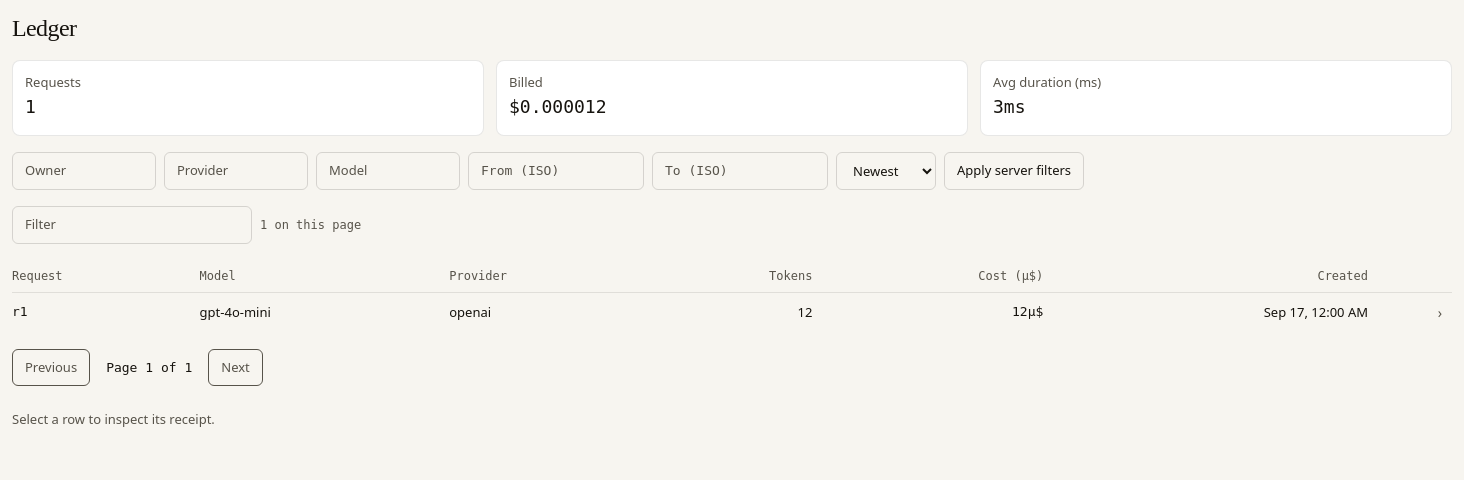
Test: LedgerPage › rejects oversize windows before fetching
This screenshot has width=1464, height=480.
Expected: the table is shown, [12, 260, 1452, 332]
Type "2026-01-01" into the field named "server filter window start" at (556, 171), box [468, 152, 644, 190]
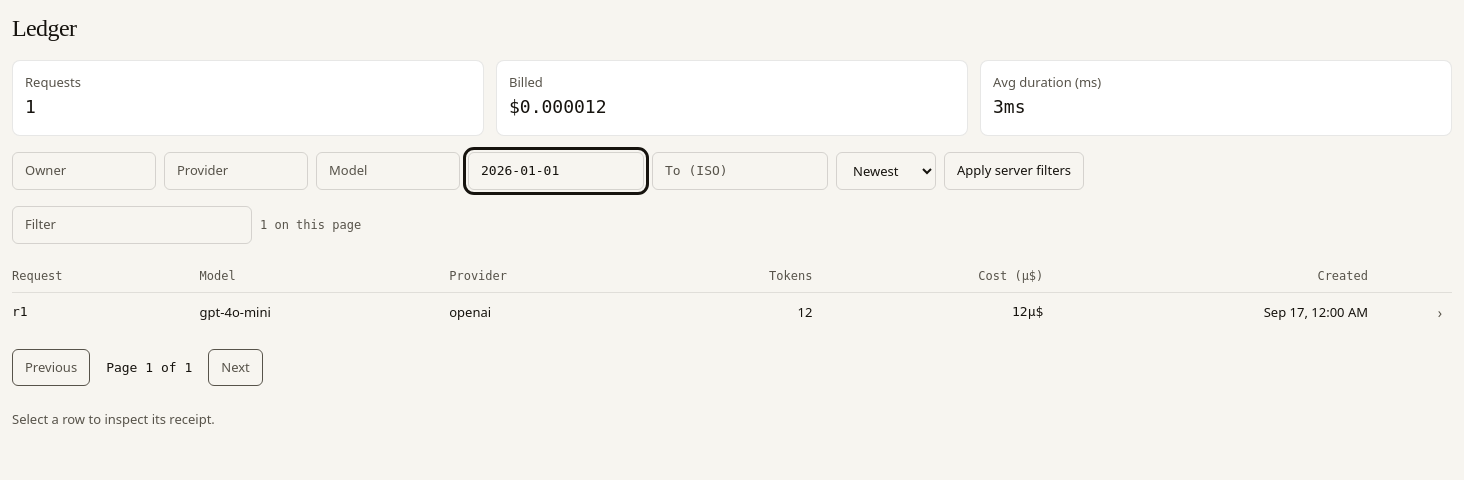
Type "2026-09-24" into the field named "server filter window end" at (740, 171), box [652, 152, 828, 190]
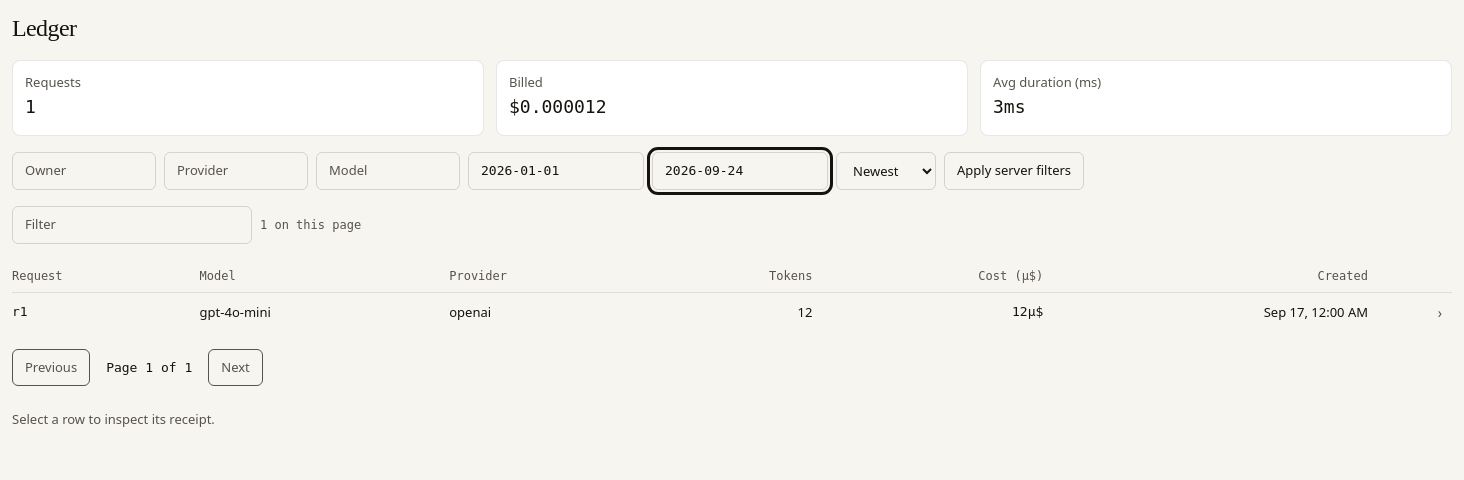
Click the button "Apply server filters" at (1014, 171), box [944, 152, 1084, 190]
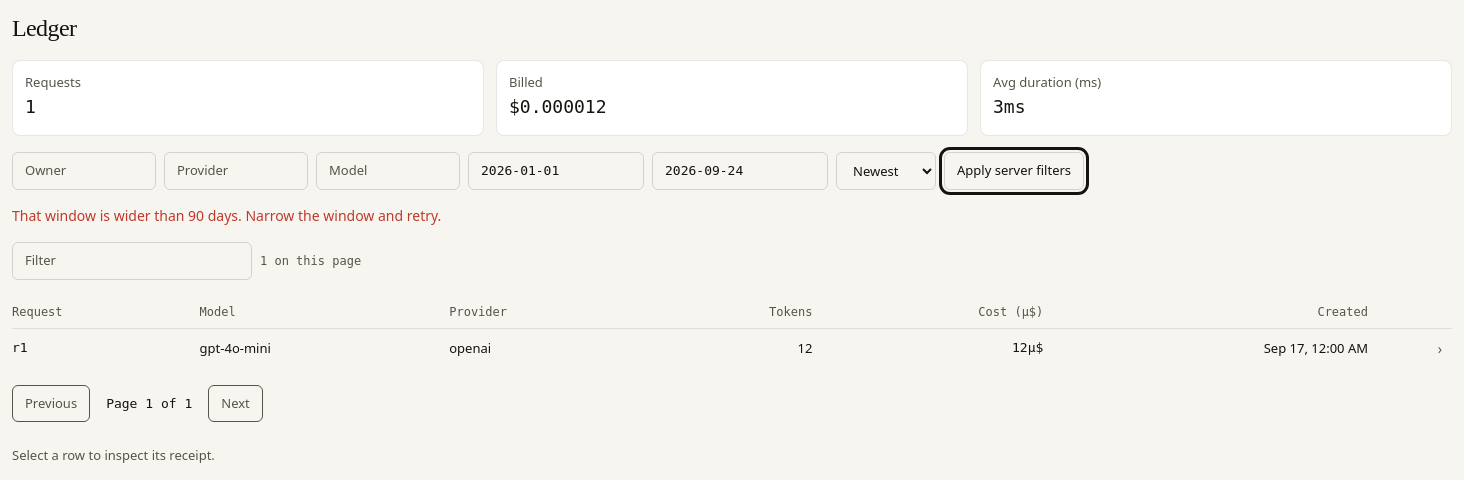
Expected: the text "That window is wider than 90 days. Narrow the window and retry." is shown, [12, 206, 441, 225]
